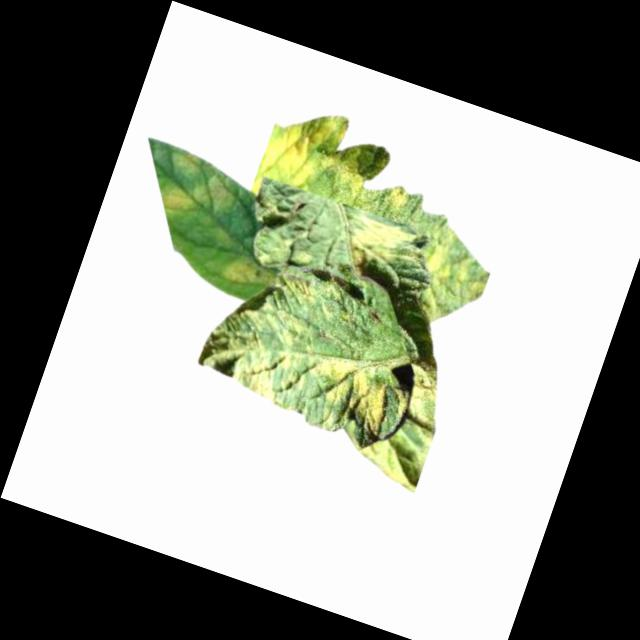Leaf_Mold: (255, 92, 381, 208), (406, 222, 501, 336), (296, 345, 400, 447), (149, 155, 243, 229), (338, 211, 416, 287), (223, 333, 298, 406), (396, 350, 450, 408), (219, 247, 279, 297), (276, 270, 319, 306), (165, 145, 202, 176), (381, 180, 414, 214)
